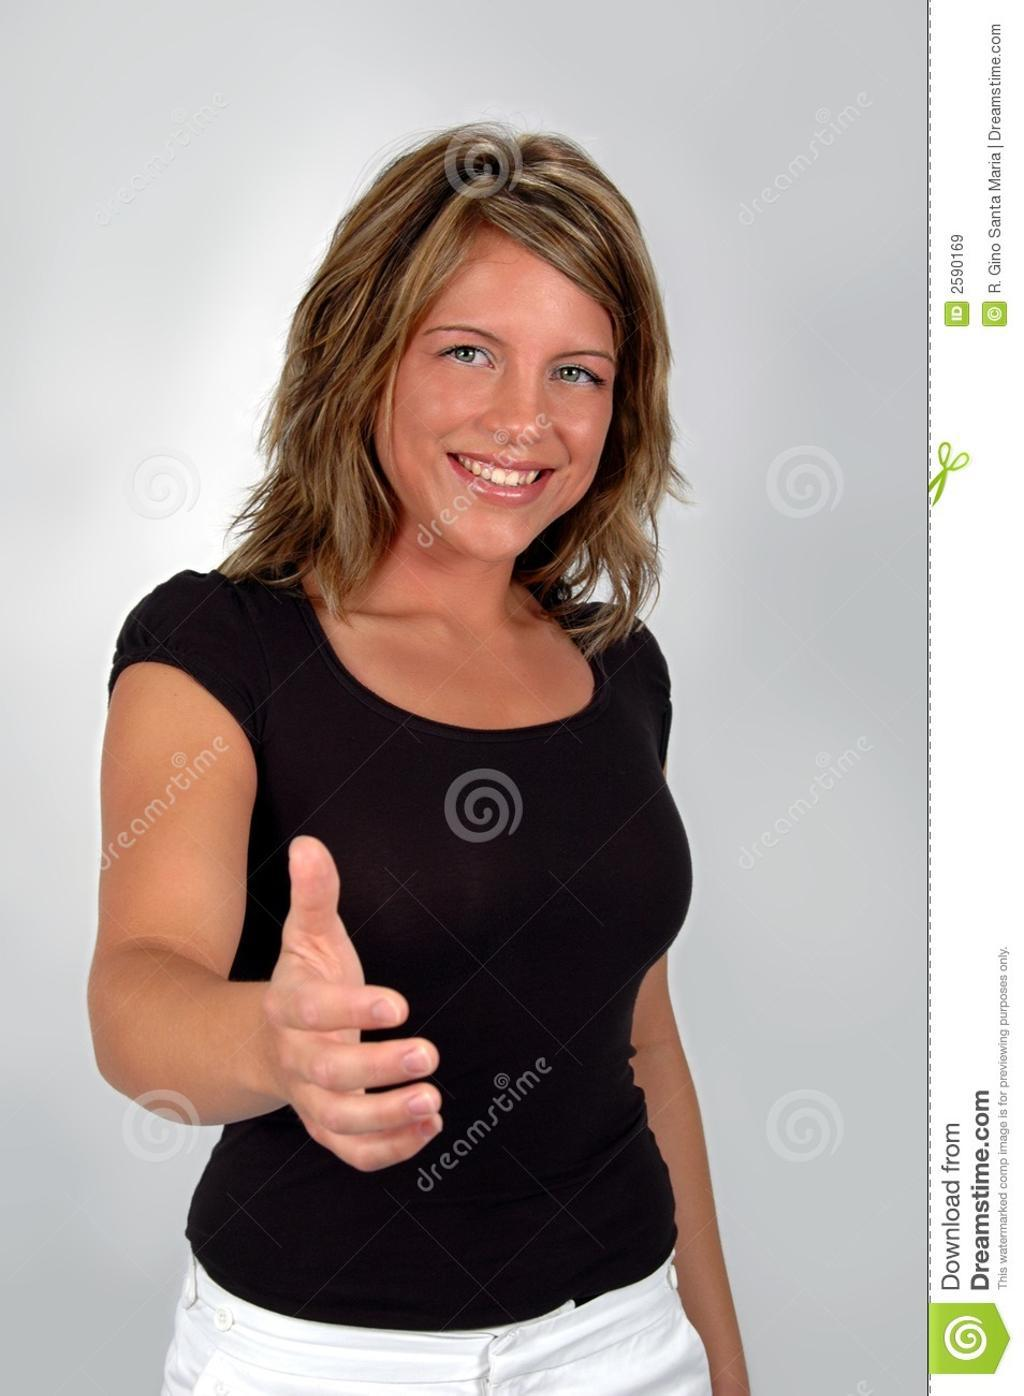face: (382, 208, 619, 562)
